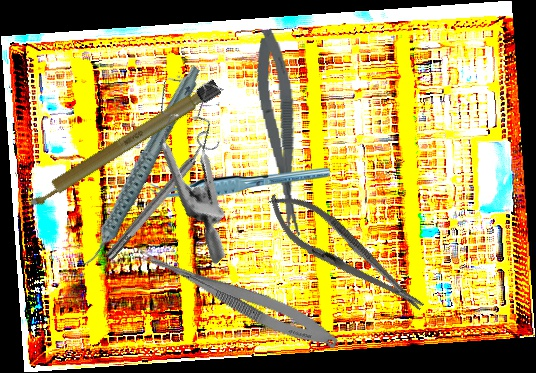Fixation Ring: (98, 127, 223, 266)
Handpiece: (42, 63, 237, 270)
Micro Scissor: (128, 241, 345, 356), (250, 27, 308, 239)
Needle Holder: (256, 179, 436, 328)
Scalpel Handle: (25, 78, 222, 211)
Speculum: (100, 55, 308, 266)
Tissue Forceps: (148, 166, 330, 199)
